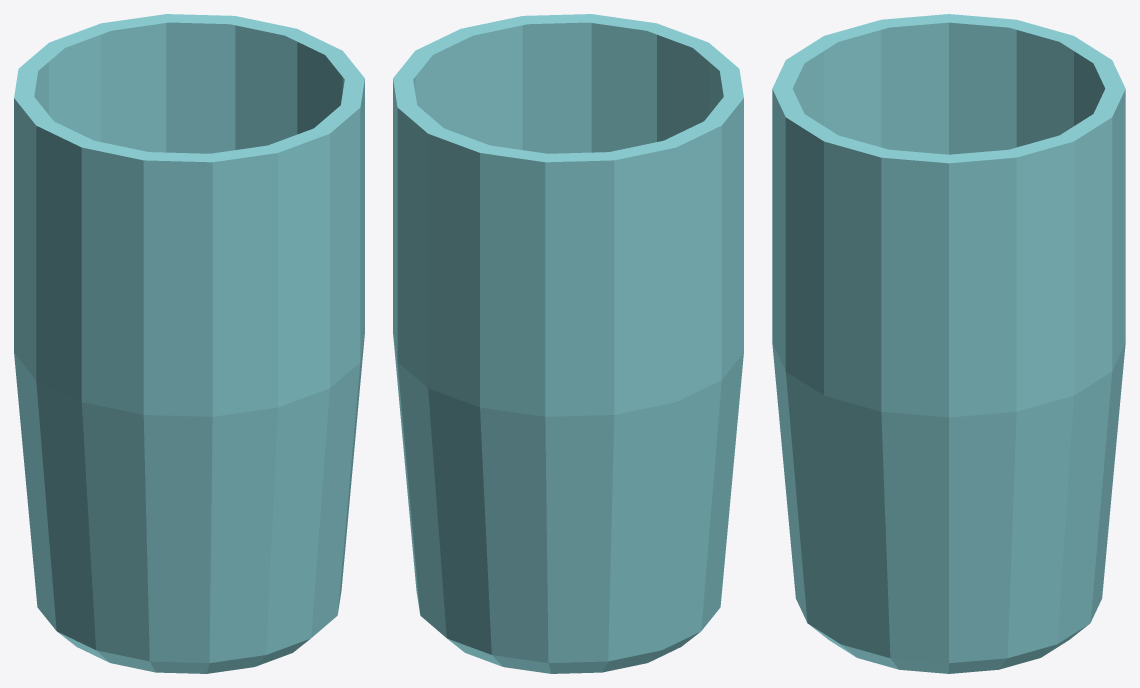
File: glaS .fbx
3 views of the same model, side by side, from view 1: azimuth 30°, elevation 25°; view 2: azimuth 150°, elevation 25°; view 3: azimuth 270°, elevation 25° (orthographic).
Visible parts, largest first — view 1: Cylinder; view 2: Cylinder; view 3: Cylinder.
Boxes of the visible parts, x1=… form: Cylinder: x1=14, y1=14, x2=364, y2=673; Cylinder: x1=393, y1=14, x2=743, y2=673; Cylinder: x1=772, y1=14, x2=1125, y2=673.
Size of the model in its own units: 130 by 215 by 130.
